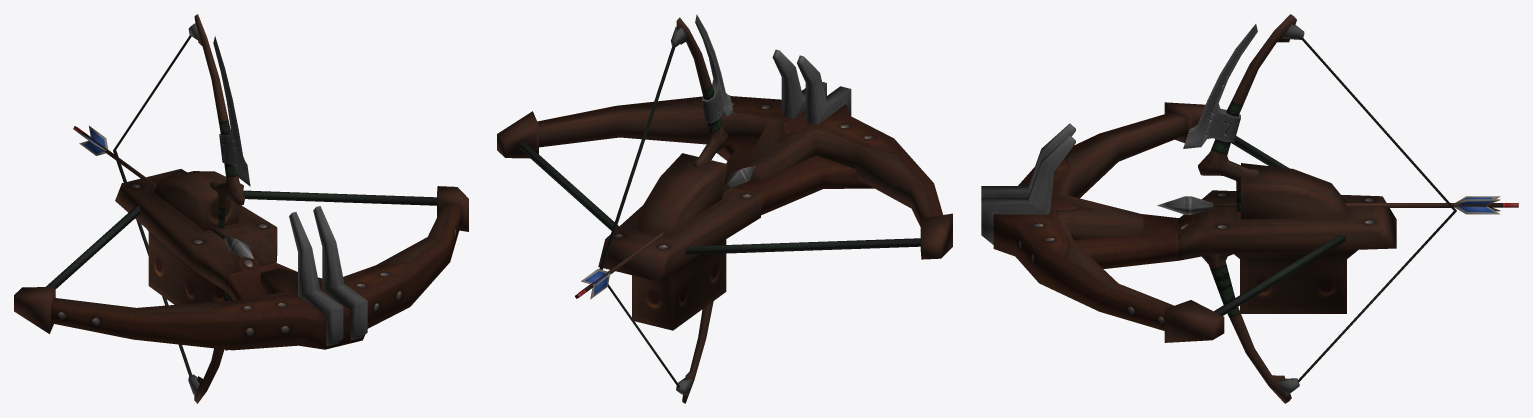
File: Weapon13.fbx
3 renders of one model, left to right at view 1: azimuth 30°, elevation 25°; view 2: azimuth 150°, elevation 25°; view 3: azimuth 270°, elevation 25°, orthographic.
Visible parts, largest first — view 1: Skin, Bow, Projectile, Bow_001; view 2: Skin, Bow, Bow_001, Projectile; view 3: Skin, Bow, Projectile, Bow_001.
Boxes of the visible parts, x1=… form: Skin: x1=14, y1=169, x2=468, y2=350; Bow: x1=188, y1=14, x2=250, y2=403; Projectile: x1=73, y1=126, x2=253, y2=258; Bow_001: x1=113, y1=35, x2=191, y2=375; Skin: x1=497, y1=49, x2=952, y2=330; Bow: x1=671, y1=14, x2=733, y2=403; Bow_001: x1=599, y1=45, x2=680, y2=387; Projectile: x1=575, y1=166, x2=755, y2=299; Skin: x1=981, y1=102, x2=1396, y2=342; Bow: x1=1183, y1=14, x2=1304, y2=403; Projectile: x1=1157, y1=196, x2=1518, y2=214; Bow_001: x1=1298, y1=38, x2=1456, y2=382.
Size of the model in its own units: 120 by 99.87 by 124.
